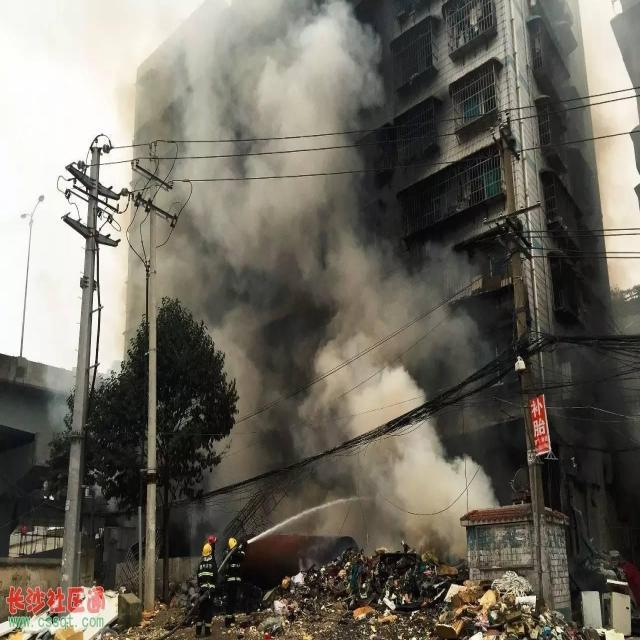Smoke: (113, 0, 500, 562)
